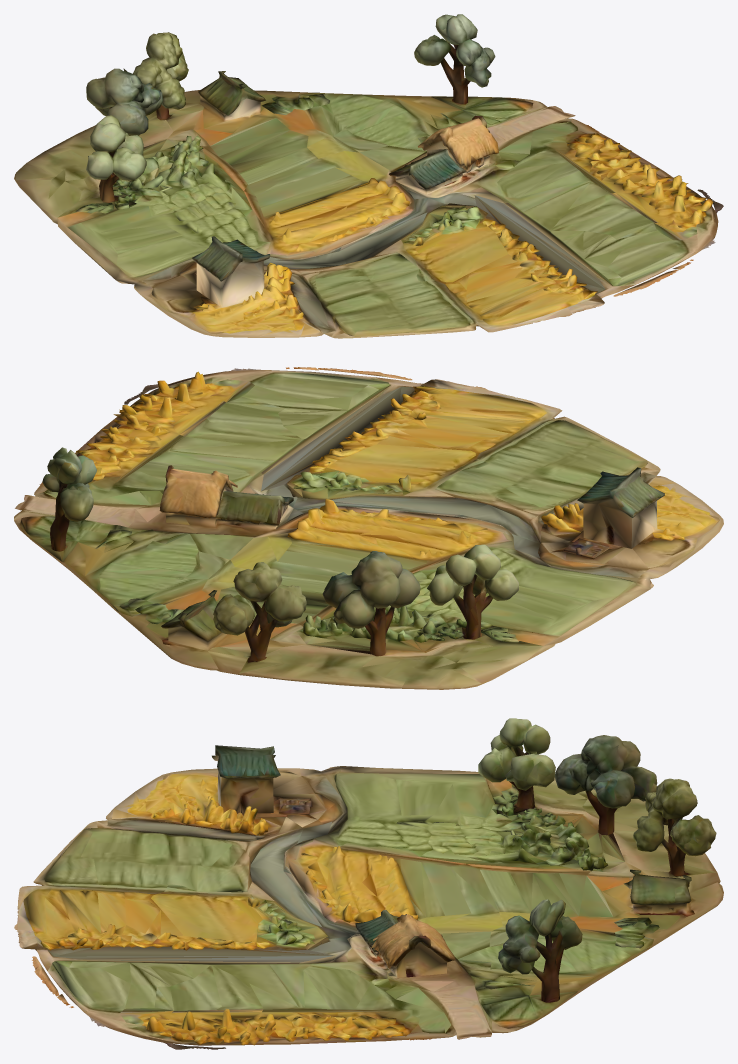
The model's file is farmland.glb.
3 views of the same model, one above another, from view 1: azimuth 30°, elevation 25°; view 2: azimuth 150°, elevation 25°; view 3: azimuth 270°, elevation 25° (orthographic). The views are drawn at different scales.
Parts seen in each view (by area): view 1: tripo_node_73ace283-c958-4ba9-8617-4b467b768501; view 2: tripo_node_73ace283-c958-4ba9-8617-4b467b768501; view 3: tripo_node_73ace283-c958-4ba9-8617-4b467b768501.
Part boxes in pixels (x1=…): tripo_node_73ace283-c958-4ba9-8617-4b467b768501: x1=14, y1=14, x2=723, y2=338; tripo_node_73ace283-c958-4ba9-8617-4b467b768501: x1=14, y1=367, x2=723, y2=689; tripo_node_73ace283-c958-4ba9-8617-4b467b768501: x1=14, y1=718, x2=723, y2=1049.
Size of the model in its own units: 24.36 by 3.93 by 25.8.
Materials: 1 (1 with a texture image).
